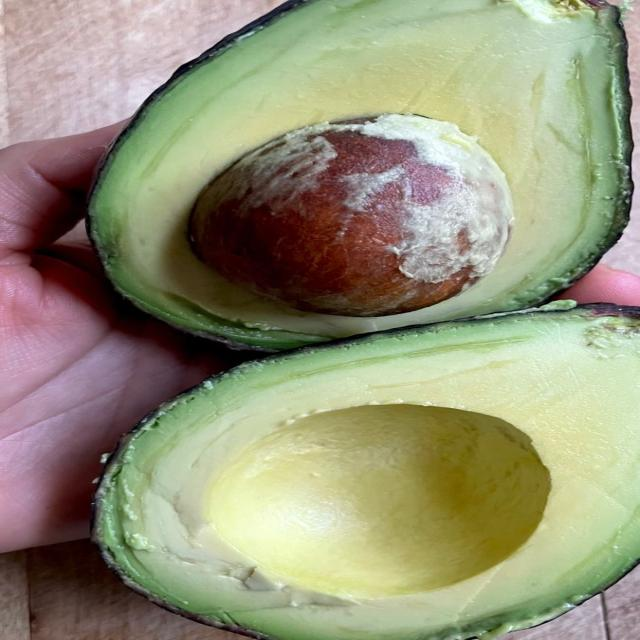avocado: (90, 0, 631, 350), (94, 303, 639, 639)
